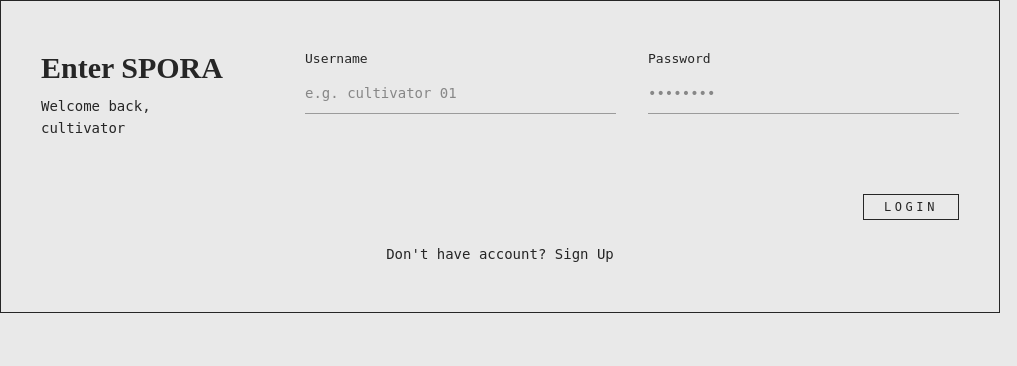
Scenario: SignInForm › shows generic credentials message when error payload lacks detail
Type "u" into the field labelled "Username".
click(460, 92); type("u")  # box [305,76,616,108]
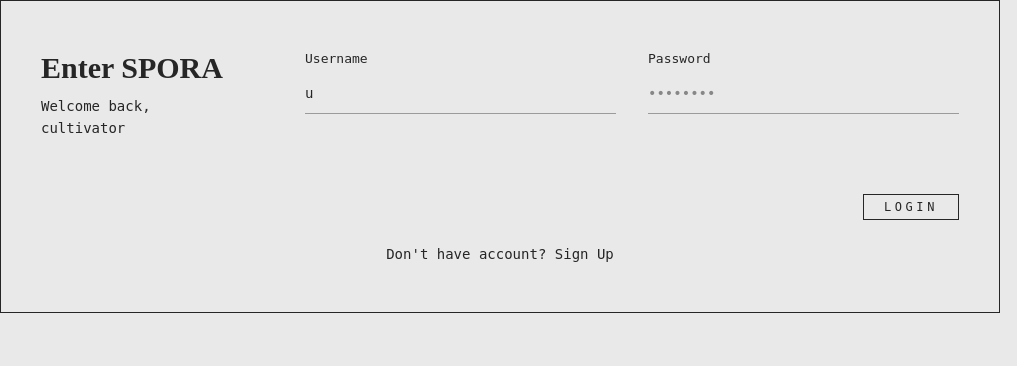
Type "p" into the password field labelled "Password".
click(804, 92); type("p")  # box [648,76,959,108]
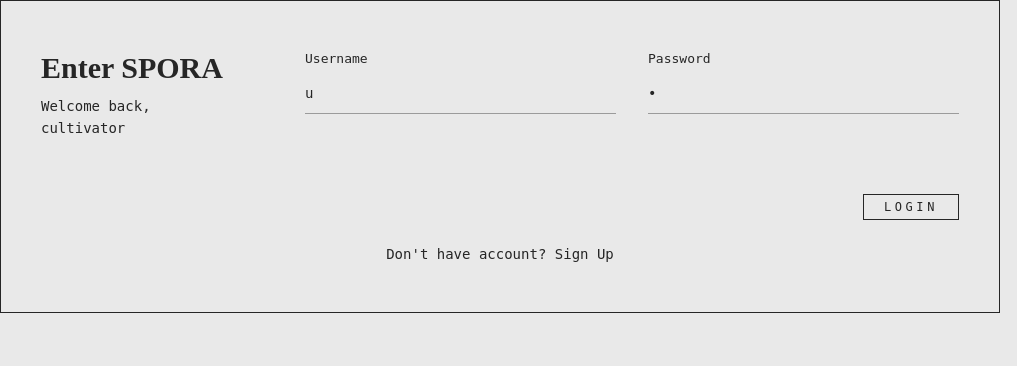
Click the button "LOGIN".
click(911, 206)  # box [863,194,959,220]
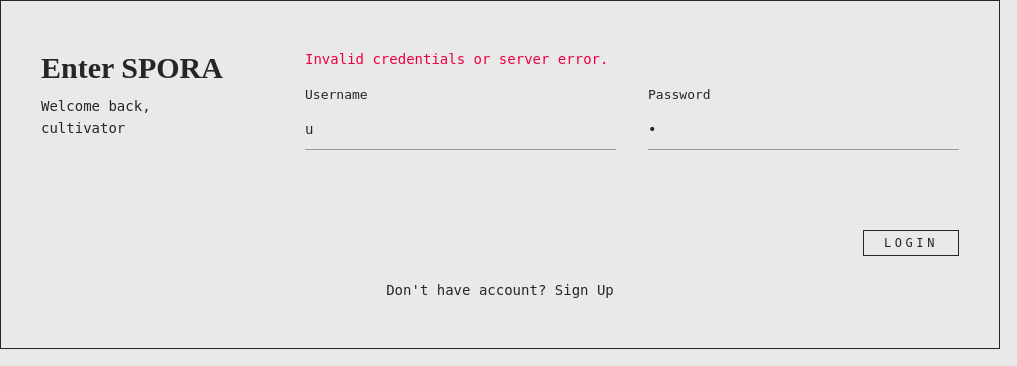
Expected: the text "Invalid credentials or server error." is shown, [305,51,608,67]
